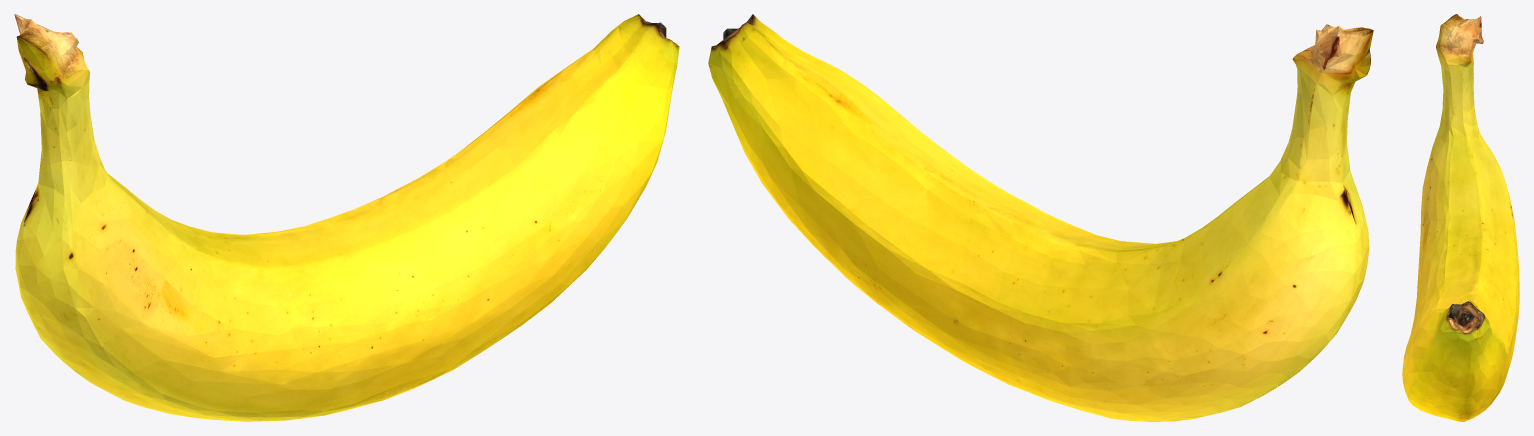
Rendered from banana-compressed.glb.
3 renders of one model, left to right at view 1: azimuth 30°, elevation 25°; view 2: azimuth 150°, elevation 25°; view 3: azimuth 270°, elevation 25°, orthographic. The views are drawn at different scales.
Parts seen in each view (by area): view 1: banana; view 2: banana; view 3: banana.
Boxes of the visible parts, x1,y1,x2,y2 form: banana: (14, 14, 679, 421); banana: (708, 14, 1373, 421); banana: (1402, 14, 1519, 421).
Size of the model in its own units: 6.79 by 4.44 by 1.62.
Materials: 1 (1 with a texture image).
